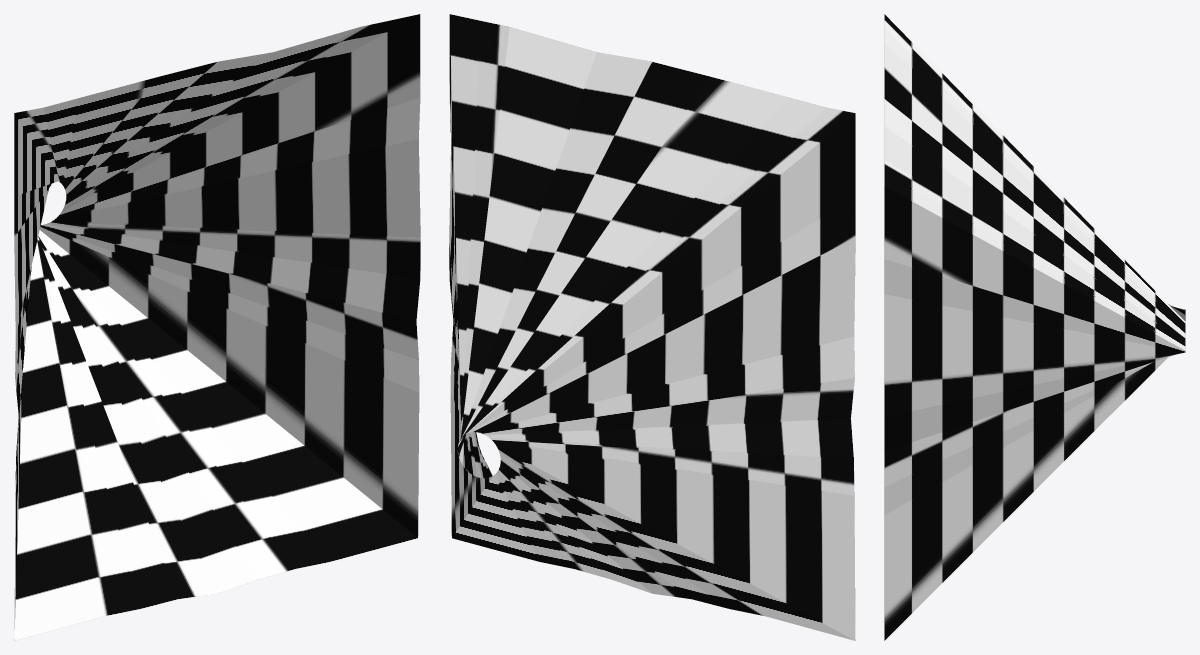
The model's file is circle-warp.gltf.
3 views of the same model, side by side, from view 1: azimuth 30°, elevation 25°; view 2: azimuth 150°, elevation 25°; view 3: azimuth 270°, elevation 25° (orthographic). The views are drawn at different scales.
Parts seen in each view (by area): view 1: SquareCircle_Adapter; view 2: SquareCircle_Adapter; view 3: SquareCircle_Adapter.
Part boxes in pixels (bbox=[...]): SquareCircle_Adapter: bbox=[14, 14, 420, 640]; SquareCircle_Adapter: bbox=[449, 14, 855, 640]; SquareCircle_Adapter: bbox=[884, 14, 1185, 640].
Size of the model in its own units: 0.4075 by 0.5097 by 0.3005.
Materials: 1 (1 with a texture image).
